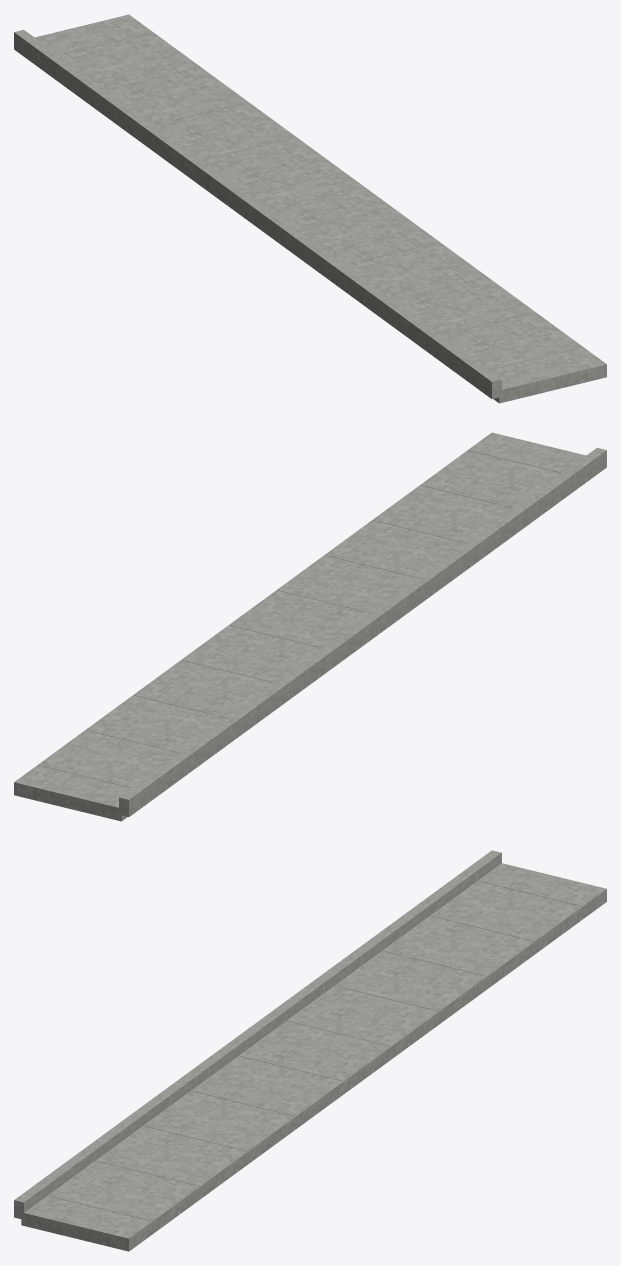
The model's file is road.sidewalk.segment.glb.
3 renders of one model, top to bottom at view 1: azimuth 30°, elevation 25°; view 2: azimuth 150°, elevation 25°; view 3: azimuth 330°, elevation 25°, orthographic.
Visible parts, largest first — view 1: road.sidewalk.segment; view 2: road.sidewalk.segment; view 3: road.sidewalk.segment.
Part boxes in pixels (left/top/right/bottom): road.sidewalk.segment: left=14, top=14, right=606, bottom=403; road.sidewalk.segment: left=14, top=432, right=606, bottom=821; road.sidewalk.segment: left=14, top=850, right=606, bottom=1251.
Size of the model in its own units: 1.39 by 0.27 by 10.
Materials: 1 (1 with a texture image).
